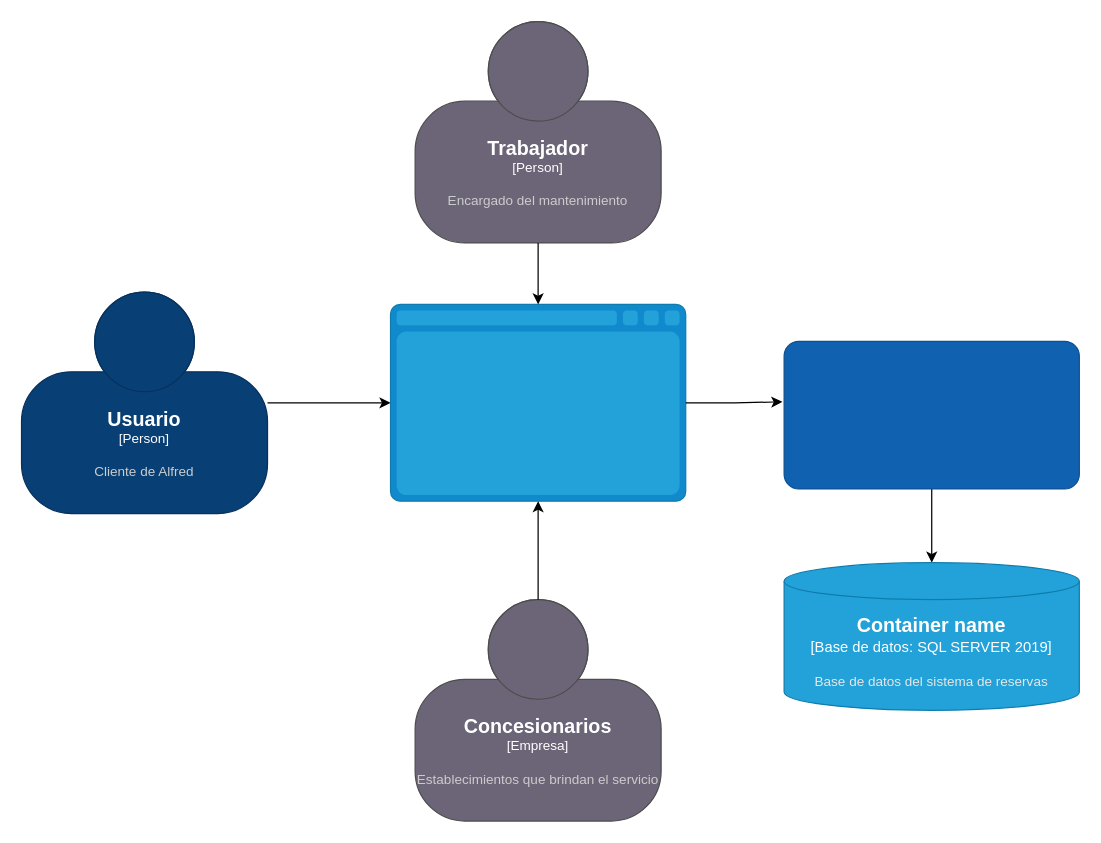
Image size: 1101x843. Some labels were removed from this diagram. The box of each missing label's shape, as (x1, y1, x2, y2) in pixels:
Api del sistema de reserva [.NET] Backend: (783, 340, 1079, 489)
Container name [Frontend: React] Sistema de reserva: (389, 303, 686, 501)
